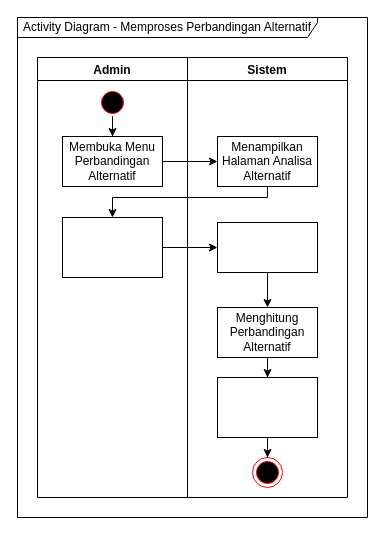
This 385x535 diagram has some shape labels left out. The box of each missing label's shape, as (x1, y1, x2, y2) in pixels:
Memilih Kriteria dan Memilih Penilaian (Skala 1-9): (62, 216, 162, 278)
Menampilkan Perbandingan Alternatif Menurut Kriteria: (216, 376, 318, 438)
Menyimpan Data: (216, 222, 318, 272)
